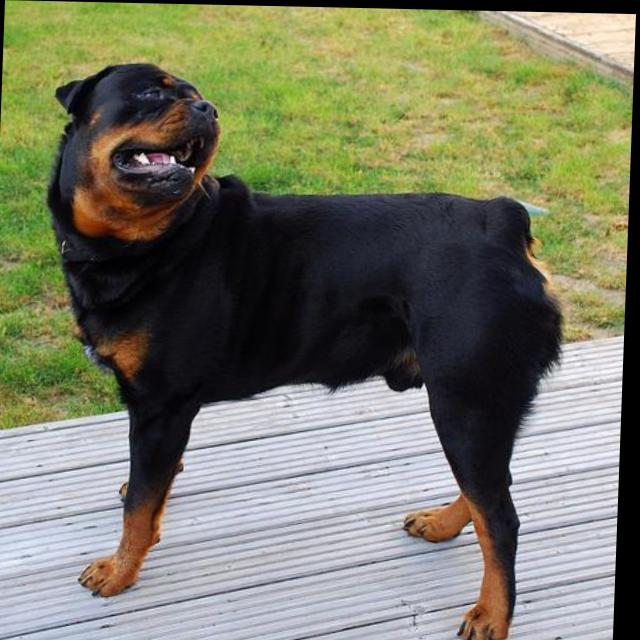rottweiler: (33, 59, 575, 640)
